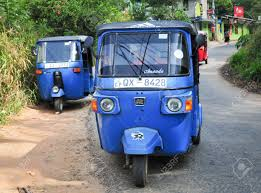tuk tuk: (92, 20, 205, 189), (34, 35, 95, 113)
